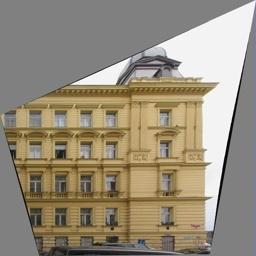building: (0, 51, 218, 256)
